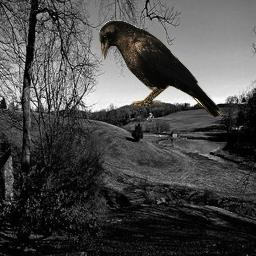Crow: (99, 20, 222, 118)
